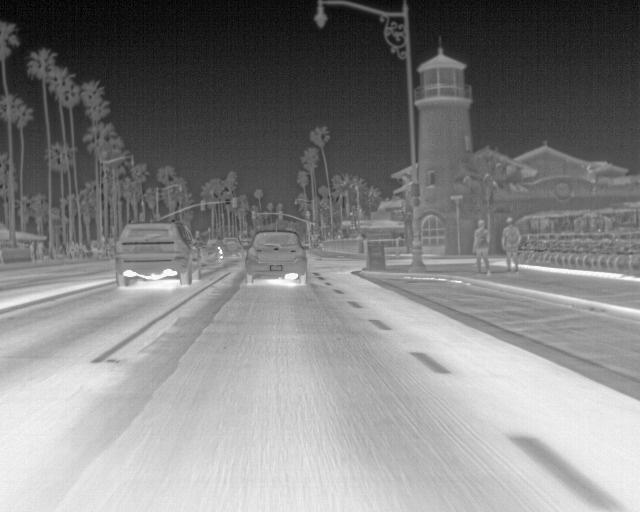bicycle: (114, 221, 202, 289), (243, 227, 309, 283), (220, 237, 240, 258)
empty: (470, 219, 496, 271), (499, 216, 523, 270)
